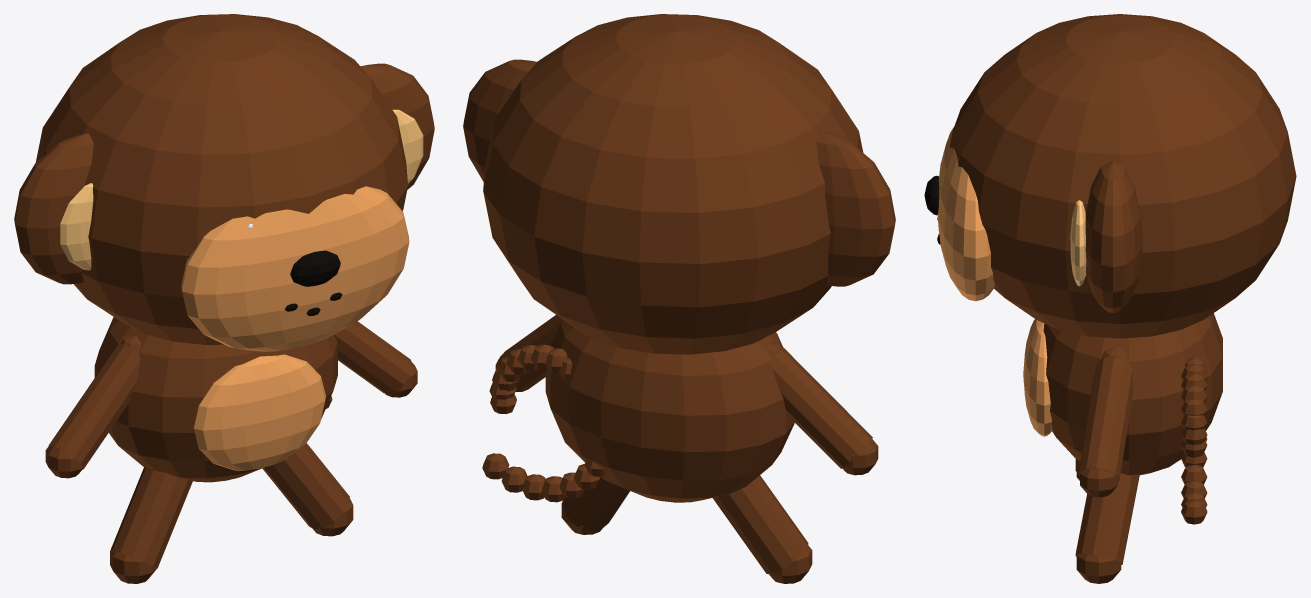
The model's file is monkey.obj.
The picture shows the model from 3 angles, left to right: view 1: azimuth 30°, elevation 25°; view 2: azimuth 150°, elevation 25°; view 3: azimuth 270°, elevation 25°; orthographic projection. The views are drawn at different scales.
Visible parts, largest first — view 1: MyMonkey; view 2: MyMonkey; view 3: MyMonkey.
Part boxes in pixels (x1,y1,x2,y2): MyMonkey: [14, 14, 434, 583]; MyMonkey: [463, 14, 895, 583]; MyMonkey: [924, 14, 1296, 583].
Bounding box in the file's own units: 2.66 × 3.15 × 2.11.
